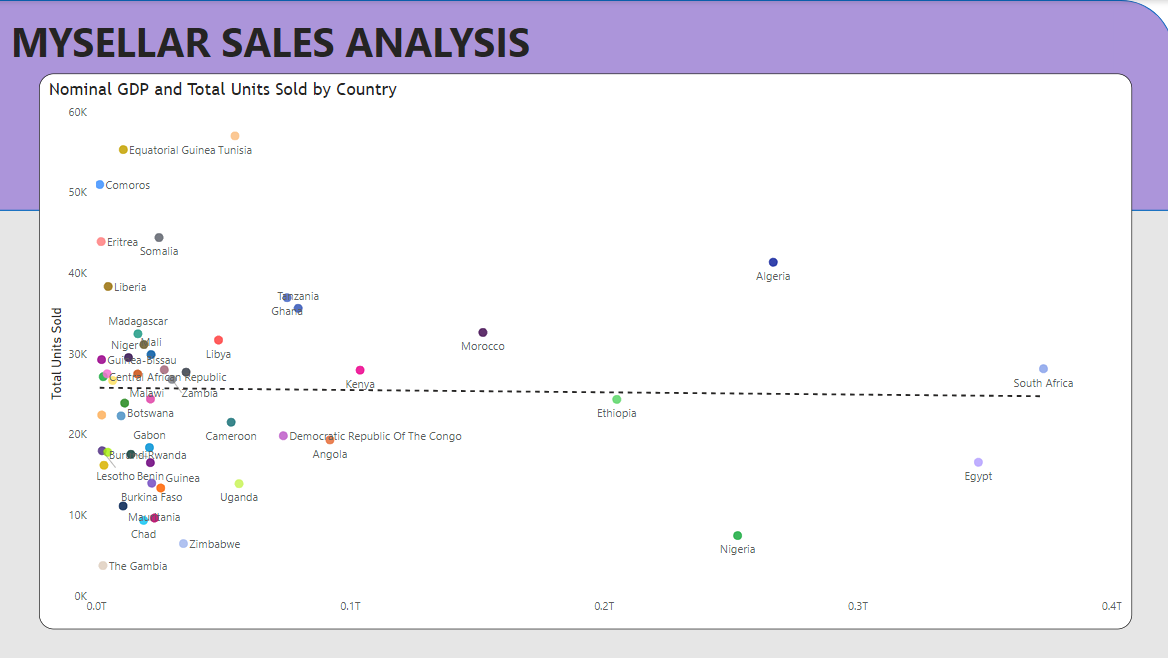

This screenshot's page, from the dashboard's own definition file:
{"tool":"powerbi","page":{"name":"GDP and Total Sales","canvas":[1280,720],"ordinal":3},"visuals":[{"type":"shape","box":[10,0,1270,227.5],"z":0},{"type":"shape","box":[10,227.5,1270,492.5],"z":1000},{"type":"textbox","box":[20,10,1195,87.5],"z":2000},{"type":"scatterChart","title":"Nominal GDP and Total Units Sold by Country","fields":{"Y":["Mysellar Sales.Total Units Sold"],"X":["GDP Data.Nominal GDP"],"Category":["GDP Data.Country"],"Series":["GDP Data.Country"]},"box":[55,80,1180,600],"z":3000}]}

Visuals, with their boxes in screenshot pixels (x1, y1, x2, y2), scaled from the page's 1280x720 canvas onto the 1168x658 screenshot:
shape: x1=9 y1=0 x2=1167 y2=208
shape: x1=9 y1=208 x2=1167 y2=657
textbox: x1=18 y1=9 x2=1109 y2=89
"Nominal GDP and Total Units Sold by Country" scatterChart: x1=50 y1=73 x2=1127 y2=621
